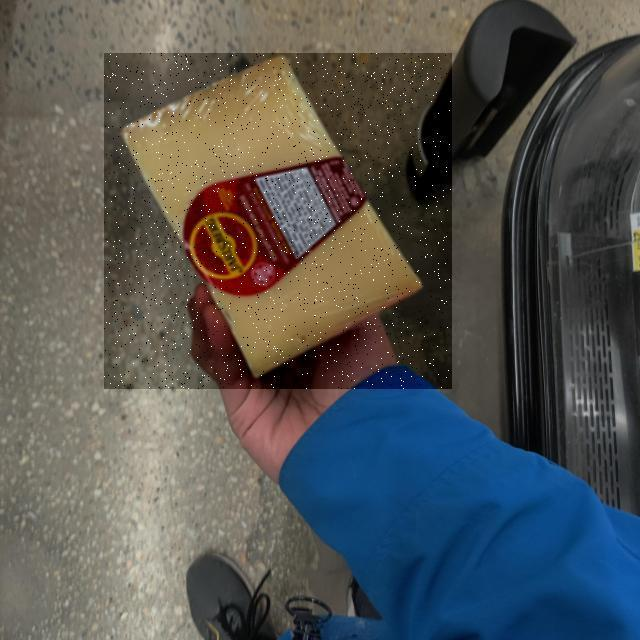cheese: (0, 194, 330, 584)
